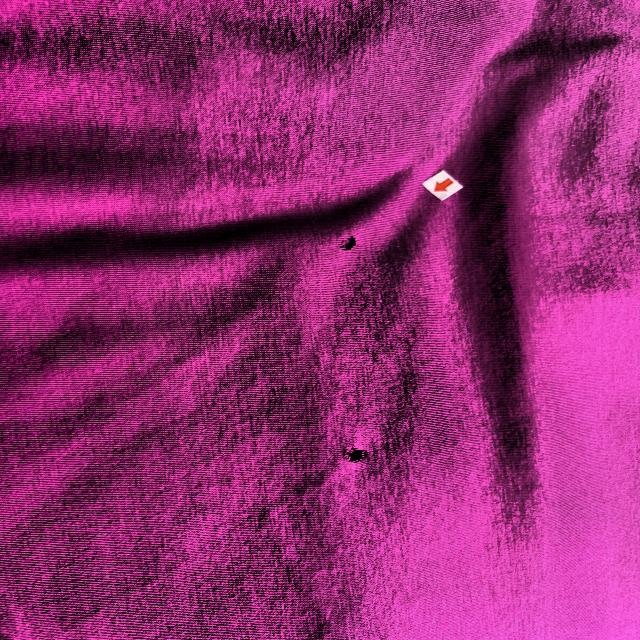Hole: (442, 266, 475, 294), (228, 274, 260, 301)
